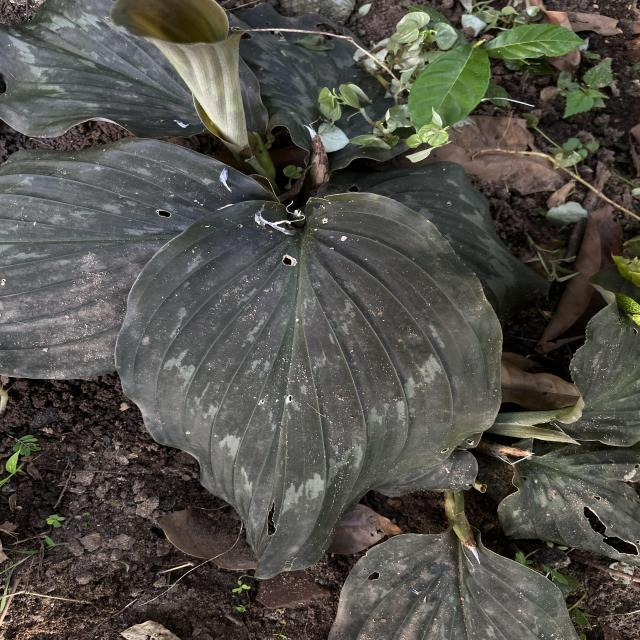Kaempferia galanga linn: (108, 187, 509, 583)
